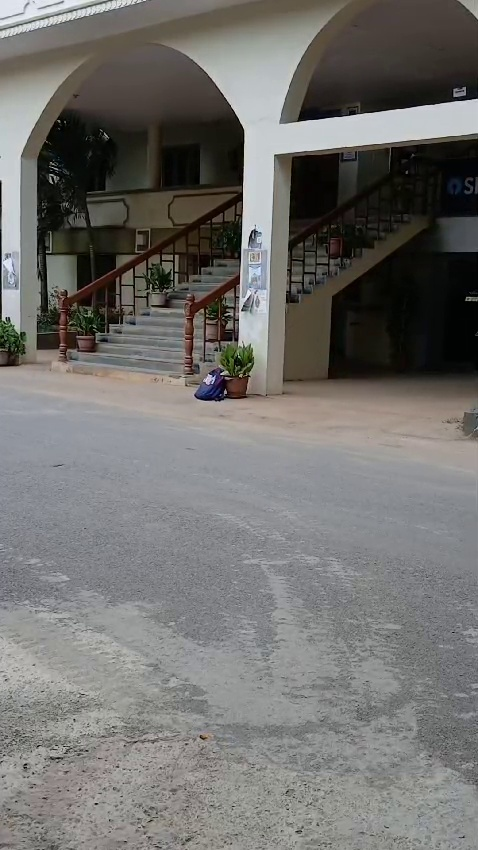bag: (191, 368, 219, 407)
